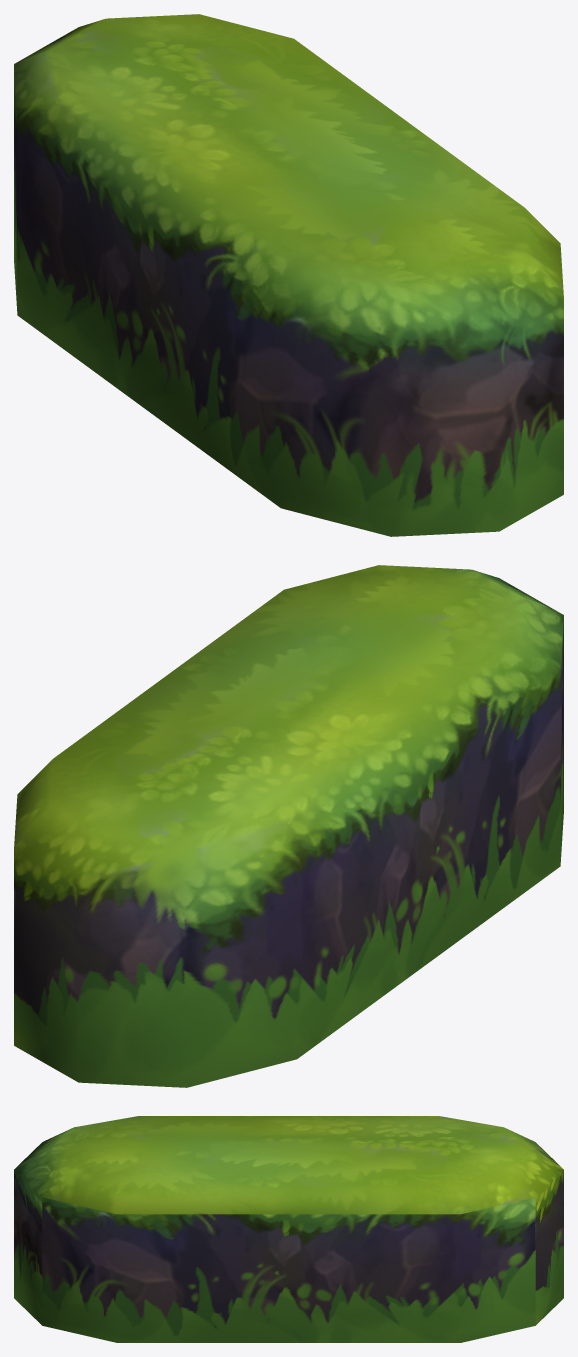
The model's file is scenes_demo_roadside02.FBX.
The picture shows the model from 3 angles, top to bottom: view 1: azimuth 30°, elevation 25°; view 2: azimuth 150°, elevation 25°; view 3: azimuth 270°, elevation 25°; orthographic projection. The views are drawn at different scales.
Visible parts, largest first — view 1: scenes_demo_roadside02; view 2: scenes_demo_roadside02; view 3: scenes_demo_roadside02.
Part boxes in pixels (<box>): scenes_demo_roadside02: <box>14,14,563,536</box>; scenes_demo_roadside02: <box>14,565,563,1087</box>; scenes_demo_roadside02: <box>14,1116,563,1342</box>.
Bounding box in the file's own units: 252 × 203 × 656.
